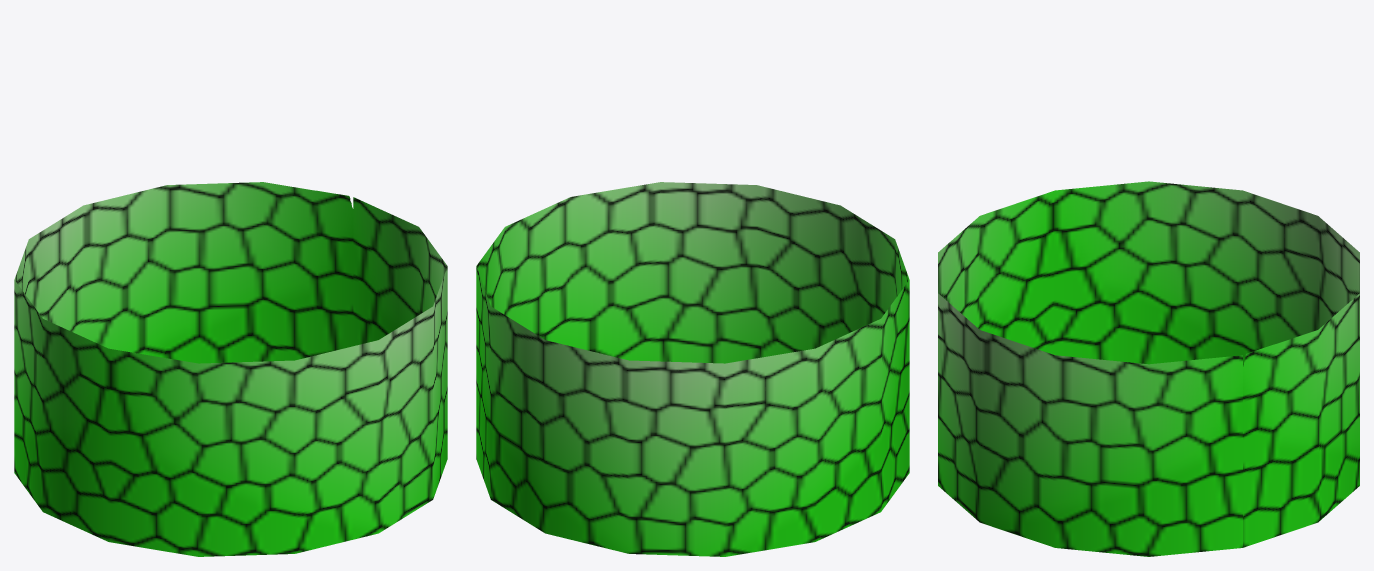
The model's file is Collison_Cylinder.fbx.
3 views of the same model, side by side, from view 1: azimuth 30°, elevation 25°; view 2: azimuth 150°, elevation 25°; view 3: azimuth 270°, elevation 25° (orthographic).
Parts seen in each view (by area): view 1: pCylinder1; view 2: pCylinder1; view 3: pCylinder1.
Part boxes in pixels (box(x1,y1,x2,y2)): pCylinder1: box(14, 182, 447, 556); pCylinder1: box(476, 182, 909, 556); pCylinder1: box(938, 181, 1359, 556).
Size of the model in its own units: 261 by 239 by 254.
Materials: 1 (1 with a texture image).
